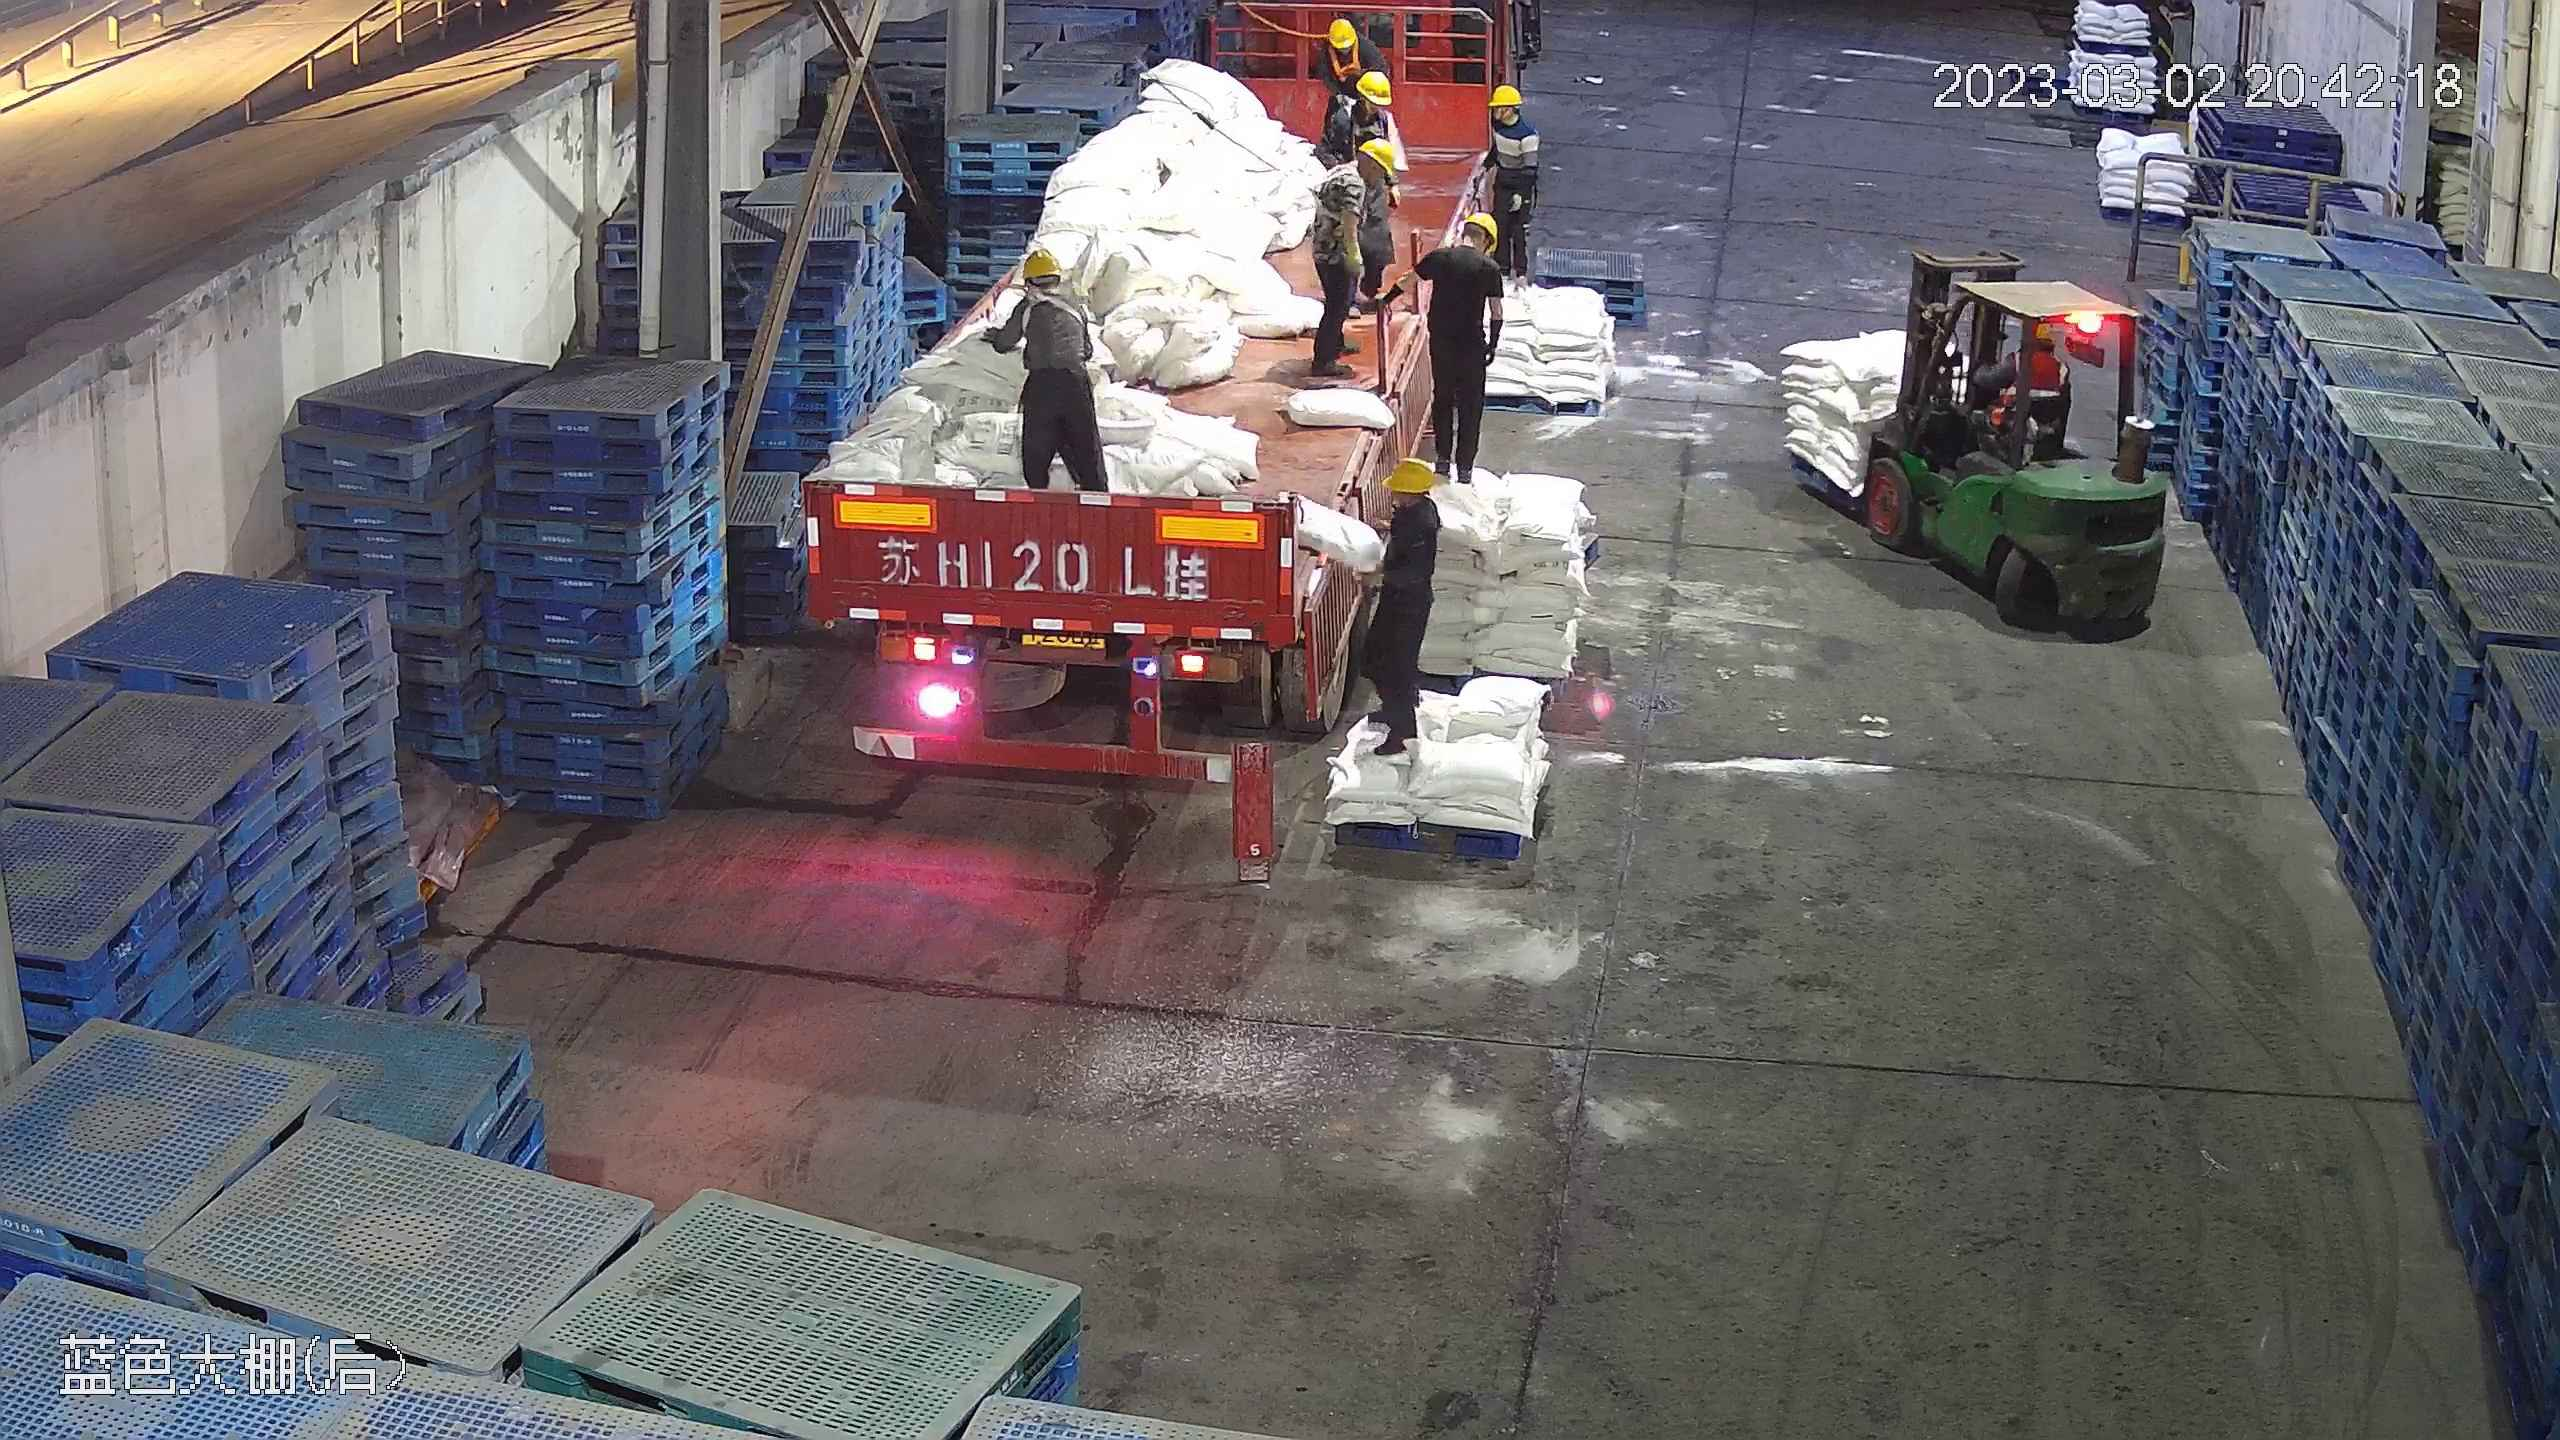belt: (1025, 287, 1099, 363), (1320, 172, 1378, 242), (1320, 32, 1367, 80), (1340, 98, 1390, 140)
head: (1371, 455, 1442, 565), (1424, 206, 1509, 287), (1319, 130, 1398, 216), (1009, 245, 1089, 328), (1482, 83, 1537, 155), (1327, 70, 1395, 129), (1317, 16, 1365, 64)
helmet: (1379, 453, 1439, 496), (1353, 134, 1400, 177), (1457, 210, 1500, 249), (1343, 70, 1388, 107), (1020, 245, 1064, 279), (1324, 15, 1357, 46), (1488, 84, 1521, 112)
people: (966, 245, 1112, 492), (1346, 451, 1441, 757), (1413, 207, 1505, 487), (1303, 128, 1397, 388), (1473, 82, 1541, 286), (1314, 16, 1388, 155)
truck: (791, 9, 1474, 806)
